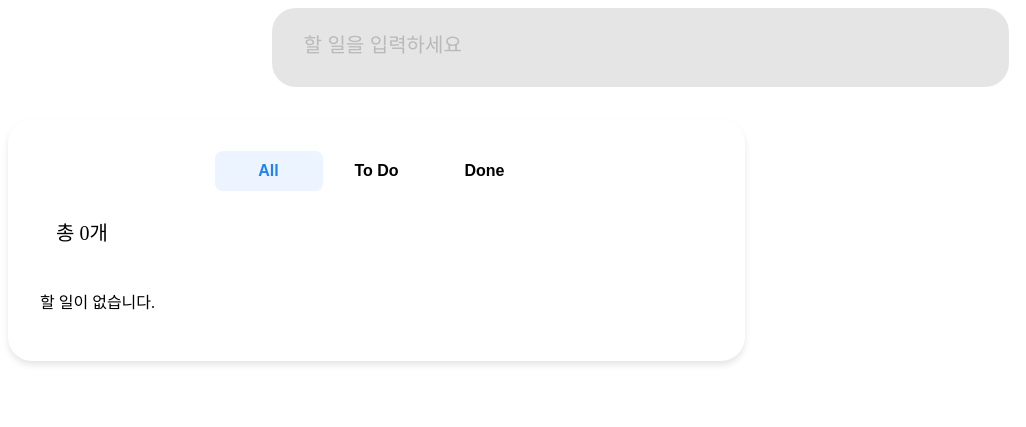
TodoList Component › 삭제 버튼을 클릭하면 할 일이 목록에서 사라진다
Type "삭제할 할 일" into the field with placeholder "할 일을 입력하세요".
click(640, 48); type("삭제할 할 일")  # box [272,8,1008,87]
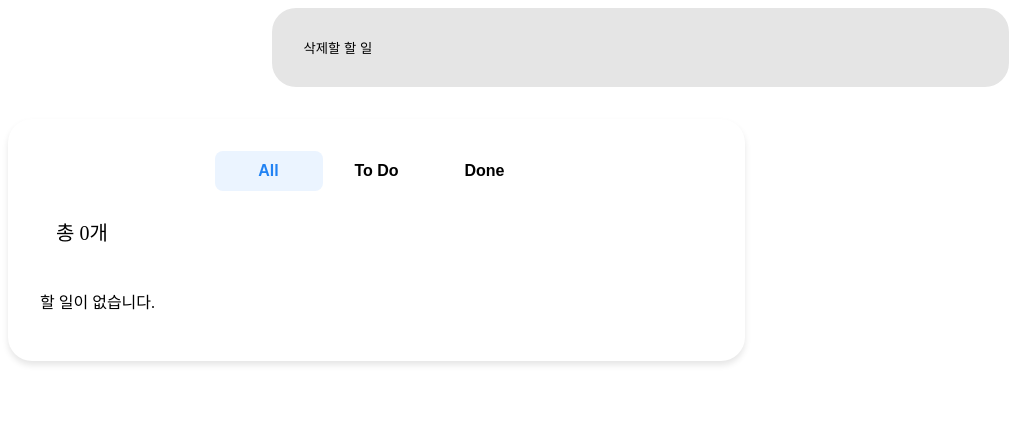
Press Enter in the field with placeholder "할 일을 입력하세요", box [272,8,1008,87]
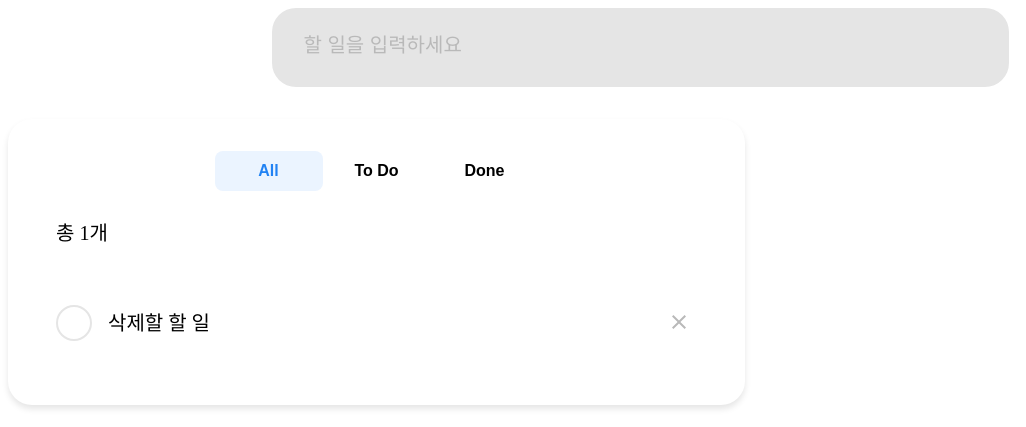
Result: the text "삭제할 할 일" is shown at [108,309,210,337]
Click the button with test id "delete-button".
click(679, 323)  # box [661,308,697,338]
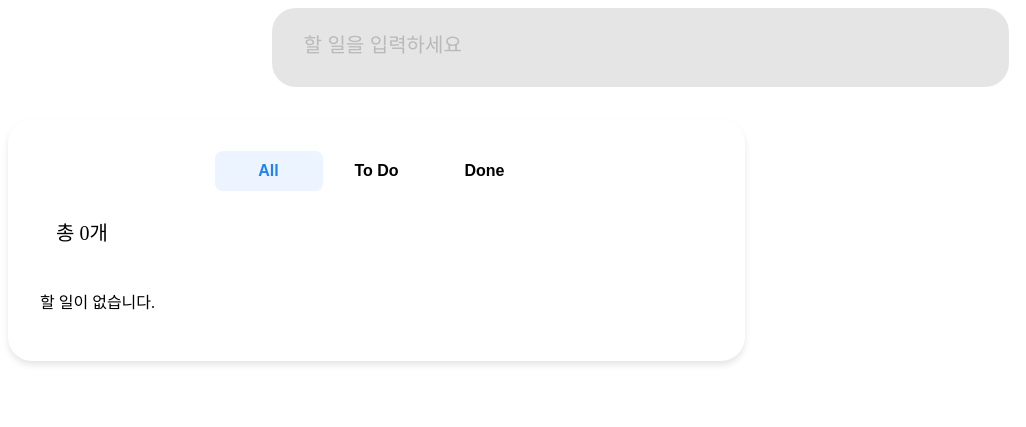
Result: the text "삭제할 할 일" is gone
